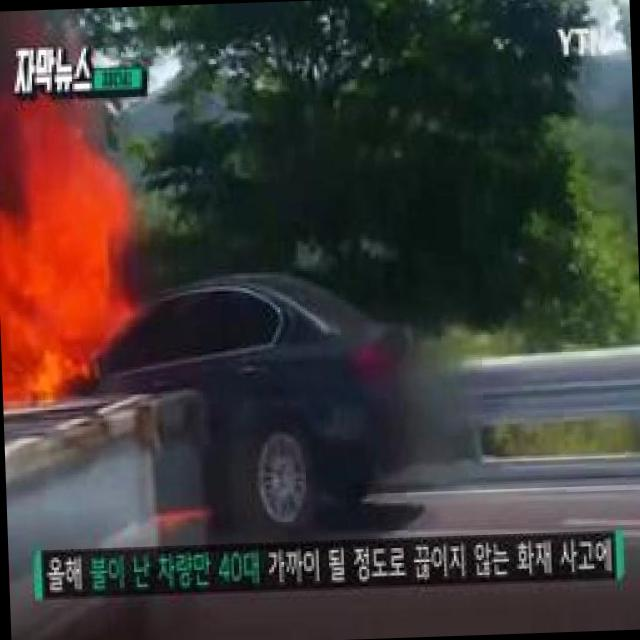Fire: (0, 90, 144, 408), (0, 8, 75, 42)
